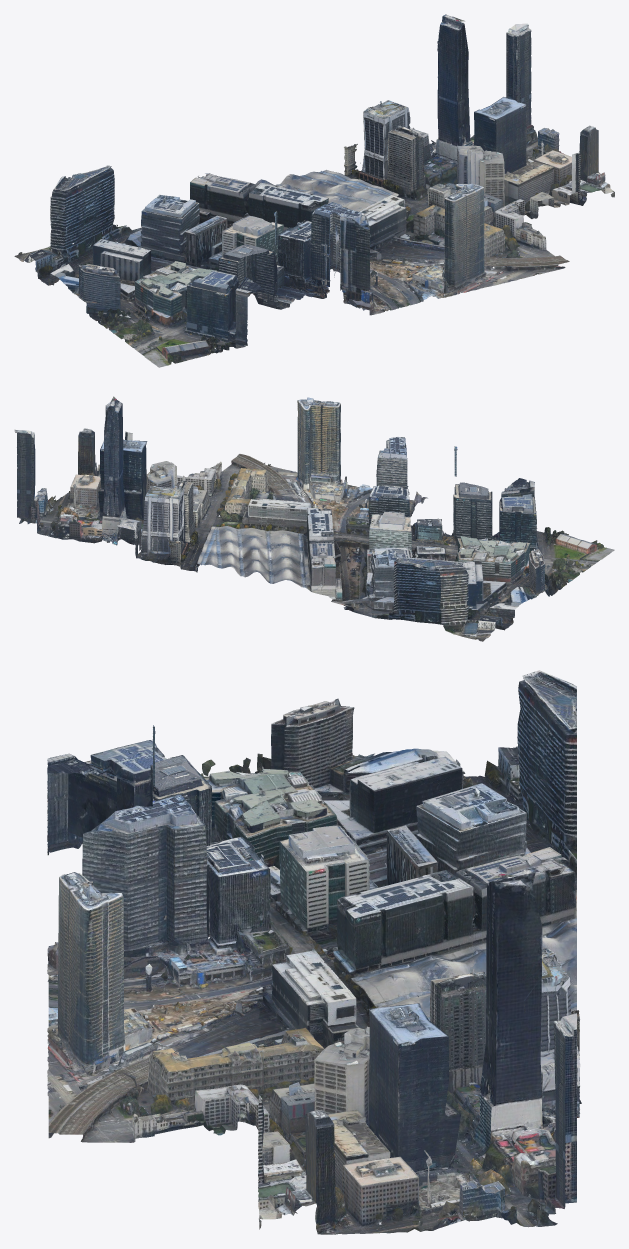
Rendered from southern-cross-context.glb.
3 renders of one model, top to bottom at view 1: azimuth 30°, elevation 25°; view 2: azimuth 150°, elevation 25°; view 3: azimuth 270°, elevation 25°, orthographic. The views are drawn at different scales.
Parts seen in each view (by area): view 1: I3S 196542, I3S 222364, I3S 150709, I3S 153085, I3S 158179, I3S 34440, I3S 213382, I3S 191470, I3S 194217, I3S 218894, I3S 211660, I3S 31830 (+4 smaller); view 2: I3S 34440, I3S 158179, I3S 196542, I3S 191470, I3S 211660, I3S 194217, I3S 150709, I3S 222364, I3S 187588, I3S 153085, I3S 213382, I3S 31830 (+4 smaller); view 3: I3S 150709, I3S 222364, I3S 158179, I3S 34440, I3S 211660, I3S 194217, I3S 213382, I3S 153085, I3S 196542, I3S 191470, I3S 187588, I3S 30661 (+3 smaller).
Part boxes in pixels (<box>): I3S 196542: <box>100,253,263,367</box>; I3S 222364: <box>305,190,467,315</box>; I3S 150709: <box>451,97,614,218</box>; I3S 153085: <box>351,127,512,242</box>; I3S 158179: <box>408,183,569,291</box>; I3S 34440: <box>429,14,556,167</box>; I3S 213382: <box>145,188,305,271</box>; I3S 191470: <box>14,165,148,282</box>; I3S 194217: <box>43,239,204,324</box>; I3S 218894: <box>274,204,337,308</box>; I3S 211660: <box>248,182,409,255</box>; I3S 31830: <box>323,101,402,188</box>; I3S 34440: <box>14,396,126,543</box>; I3S 158179: <box>186,397,327,503</box>; I3S 196542: <box>468,478,614,588</box>; I3S 191470: <box>388,557,509,641</box>; I3S 211660: <box>230,495,374,567</box>; I3S 194217: <box>457,540,562,626</box>; I3S 150709: <box>40,428,187,520</box>; I3S 222364: <box>299,401,427,532</box>; I3S 187588: <box>295,541,403,619</box>; I3S 153085: <box>135,462,270,547</box>; I3S 213382: <box>320,496,467,588</box>; I3S 31830: <box>154,485,226,572</box>; I3S 150709: <box>258,1003,474,1234</box>; I3S 222364: <box>47,805,263,1051</box>; I3S 158179: <box>47,881,263,1142</box>; I3S 34440: <box>468,869,576,1227</box>; I3S 211660: <box>257,865,474,1040</box>; I3S 194217: <box>258,698,472,859</box>; I3S 213382: <box>258,786,474,954</box>; I3S 153085: <box>258,974,474,1141</box>; I3S 196542: <box>47,740,263,855</box>; I3S 191470: <box>468,670,576,865</box>; I3S 187588: <box>468,783,576,937</box>; I3S 30661: <box>468,961,581,1124</box>.
Size of the model in its own units: 806 by 231 by 397.
Materials: 18 (18 with a texture image).
